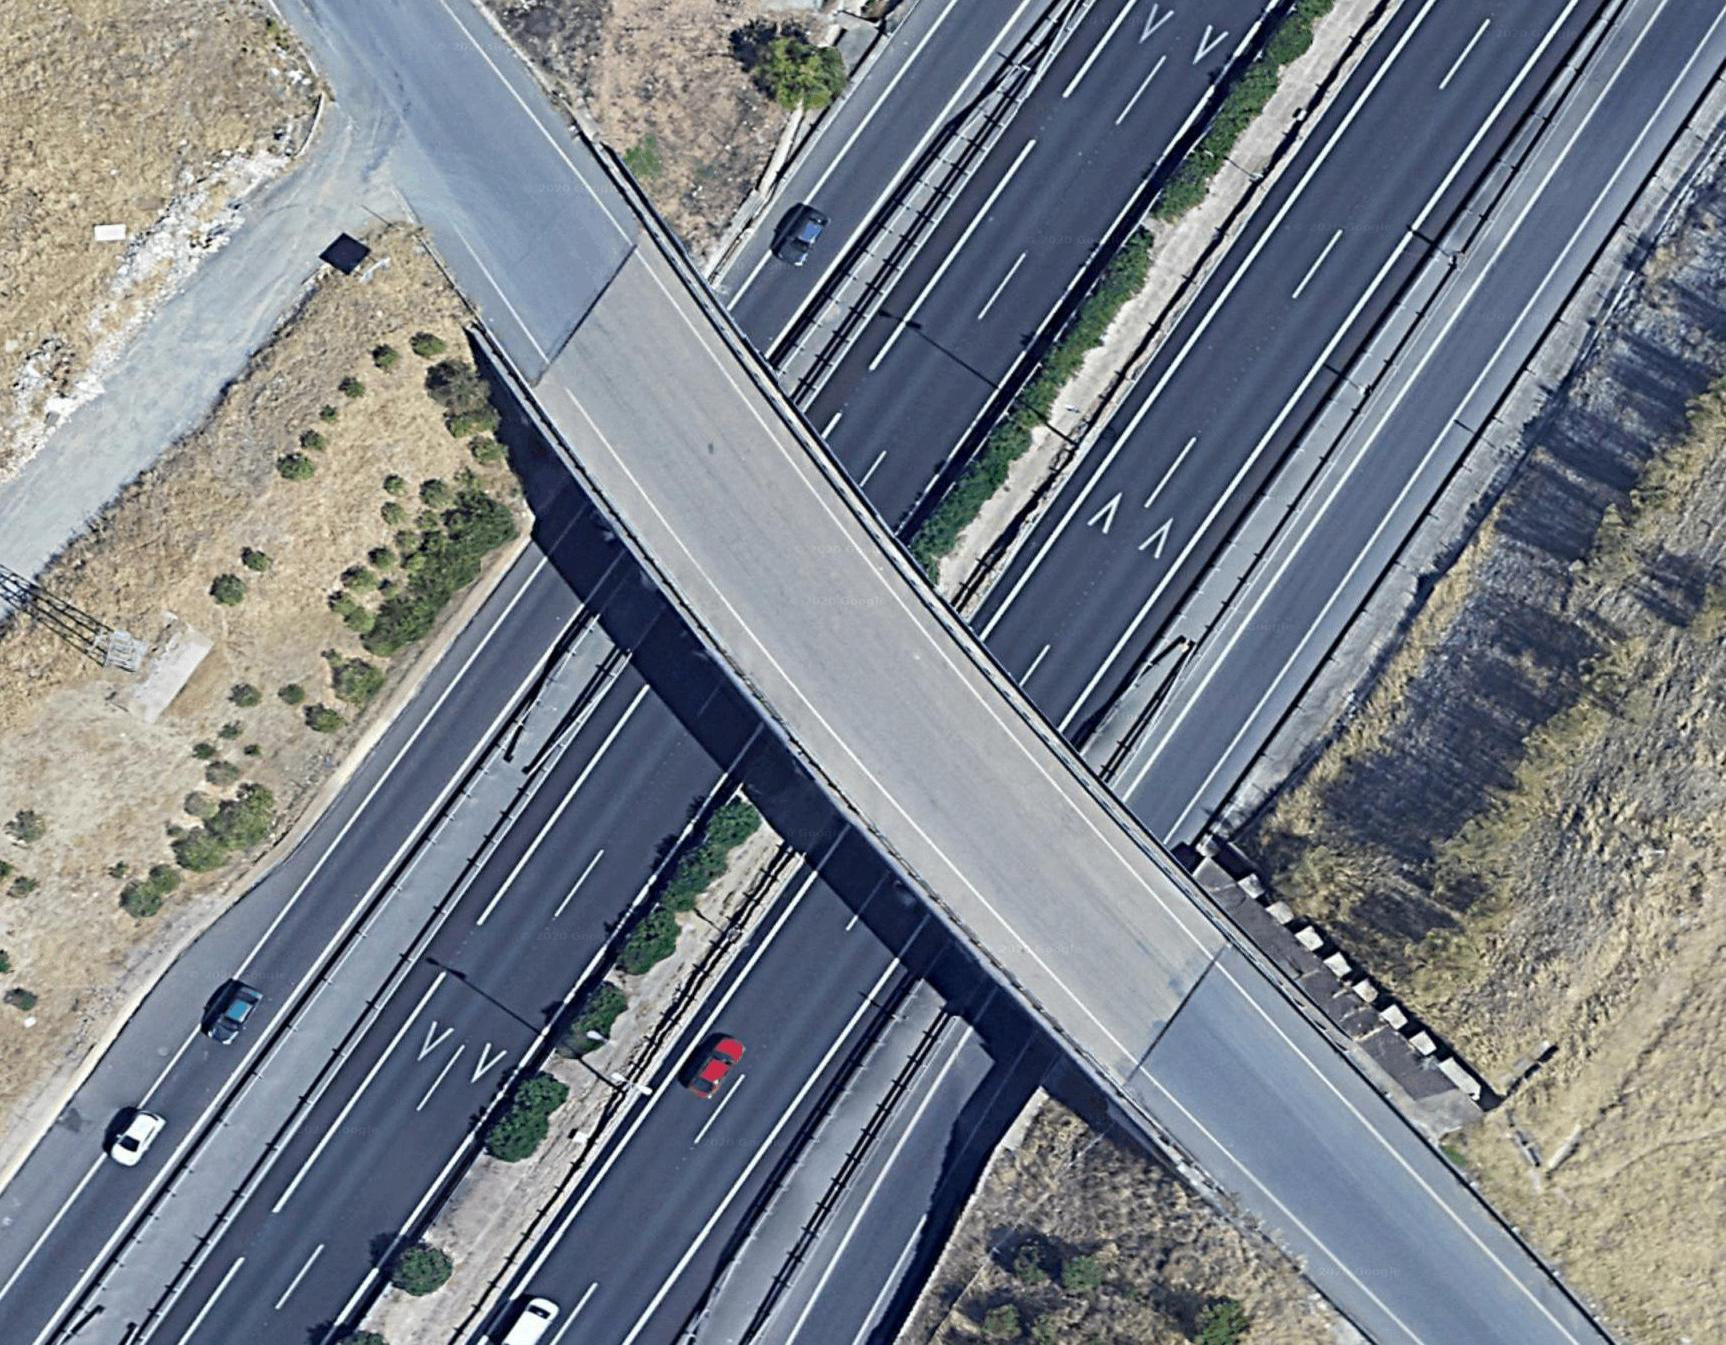bridge: (426, 324, 1342, 1129)
small-vehicle: (205, 979, 263, 1042), (686, 1035, 745, 1096), (109, 1108, 165, 1168), (778, 205, 831, 263)
